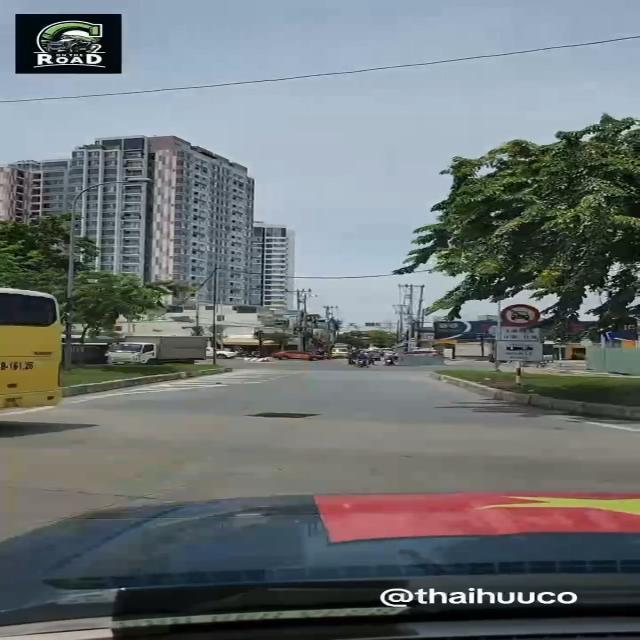103a-cam-oto: (498, 304, 542, 326)
